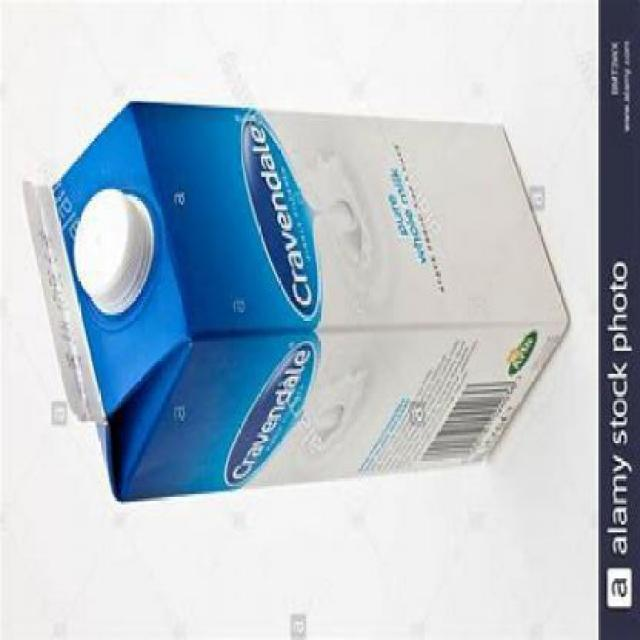non_white_jug: (20, 99, 573, 508)
